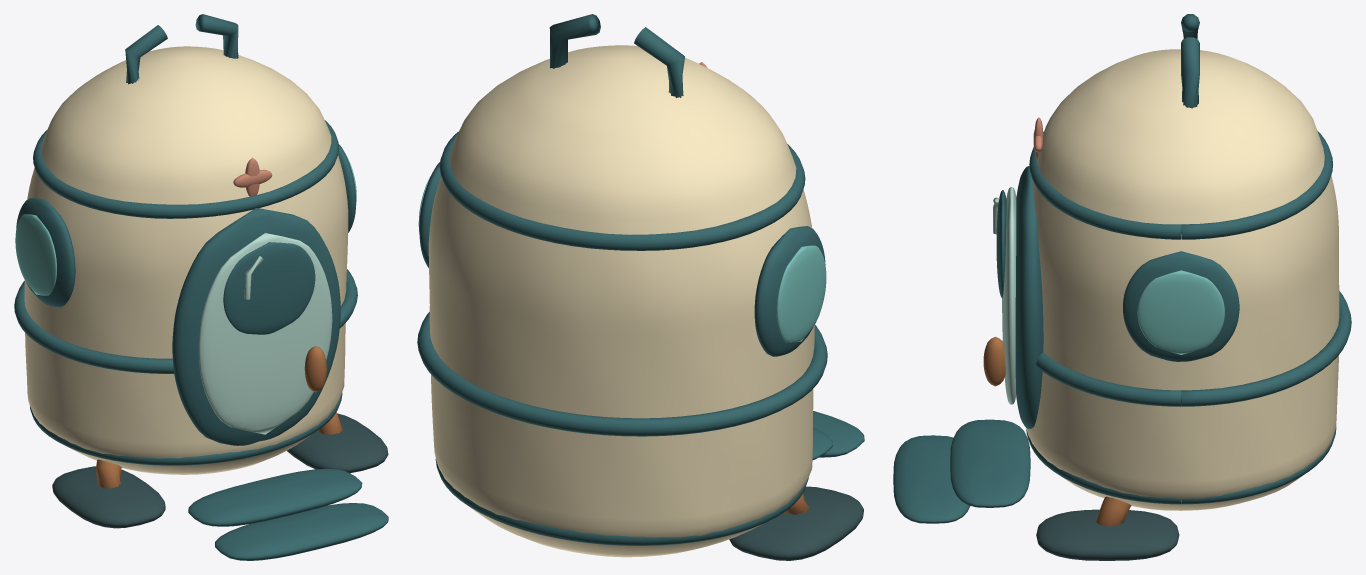
The model's file is capsule_art19.glb.
3 renders of one model, left to right at view 1: azimuth 30°, elevation 25°; view 2: azimuth 150°, elevation 25°; view 3: azimuth 270°, elevation 25°, orthographic. The views are drawn at different scales.
Parts seen in each view (by area): view 1: Static_Cream ceramic, Static_Deep teal cloth, Static_Plasma pale, Static_Soft sole, Static_Plasma teal, Static_Copper contacts, Static_Clay coral; view 2: Static_Cream ceramic, Static_Deep teal cloth, Static_Soft sole, Static_Plasma teal; view 3: Static_Cream ceramic, Static_Deep teal cloth, Static_Soft sole, Static_Plasma teal, Static_Plasma pale, Static_Copper contacts.
Boxes of the visible parts, x1,y1,x2,y2 form: Static_Cream ceramic: (24,46,348,474); Static_Deep teal cloth: (14,14,388,560); Static_Plasma pale: (198,233,332,434); Static_Soft sole: (52,413,388,528); Static_Plasma teal: (15,157,356,295); Static_Copper contacts: (96,346,342,488); Static_Clay coral: (233,157,272,196); Static_Cream ceramic: (428,45,814,557); Static_Deep teal cloth: (417,14,864,545); Static_Soft sole: (729,486,863,560); Static_Plasma teal: (418,176,826,342); Static_Cream ceramic: (1026,49,1339,510); Static_Deep teal cloth: (893,14,1351,523); Static_Soft sole: (1036,509,1179,560); Static_Plasma teal: (1137,270,1224,354); Static_Plasma pale: (993,187,1016,404); Static_Copper contacts: (983,336,1131,526).
Size of the model in its own units: 2.08 by 2.81 by 2.5.
